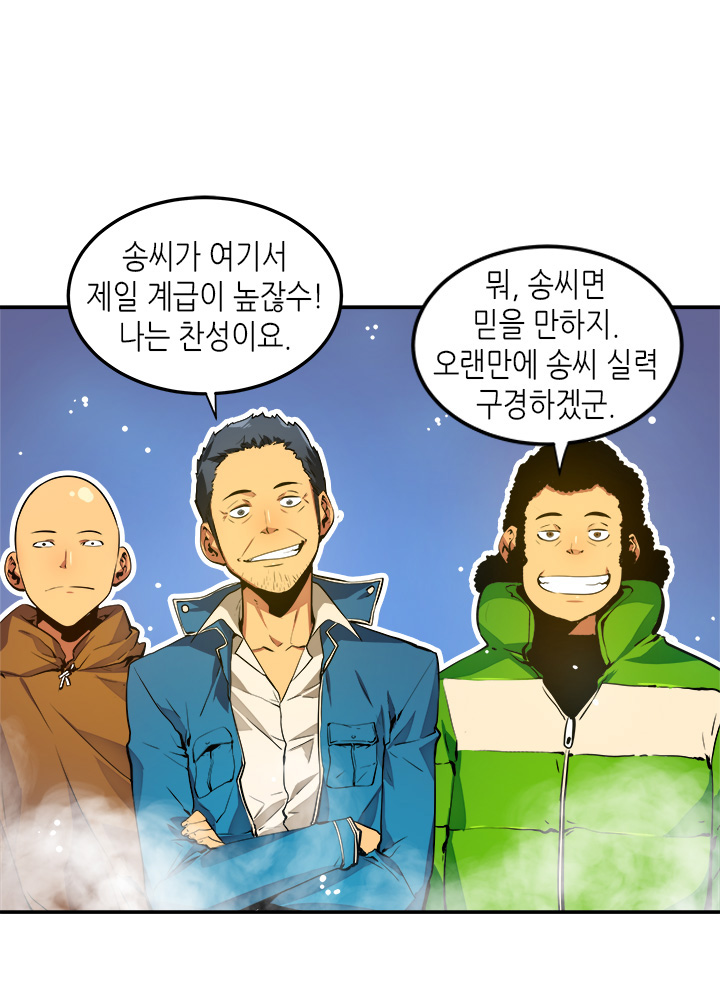dialog box: (47, 169, 364, 436), (386, 223, 713, 475)
text: (425, 256, 673, 441), (66, 217, 343, 379)
